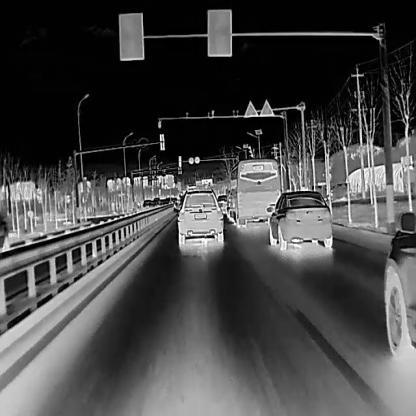car: (384, 212, 416, 357), (265, 189, 332, 251), (228, 158, 280, 227), (176, 187, 223, 254), (218, 192, 230, 214), (141, 199, 152, 215), (153, 195, 161, 211)
